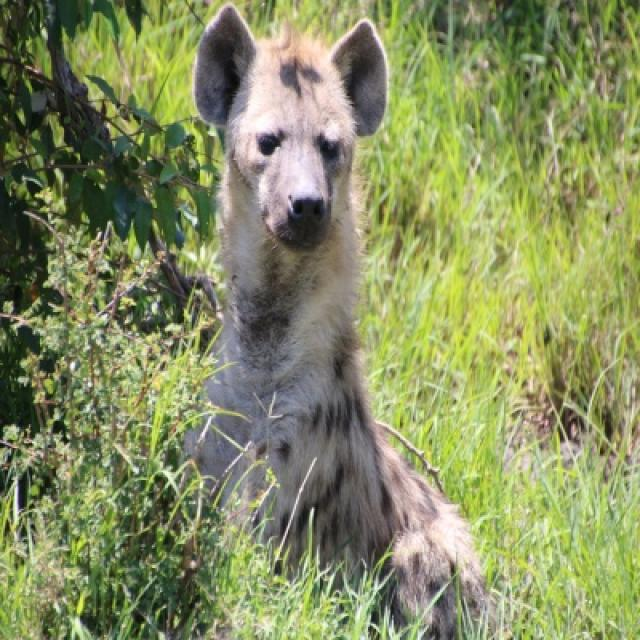hyena: (190, 5, 494, 638)
